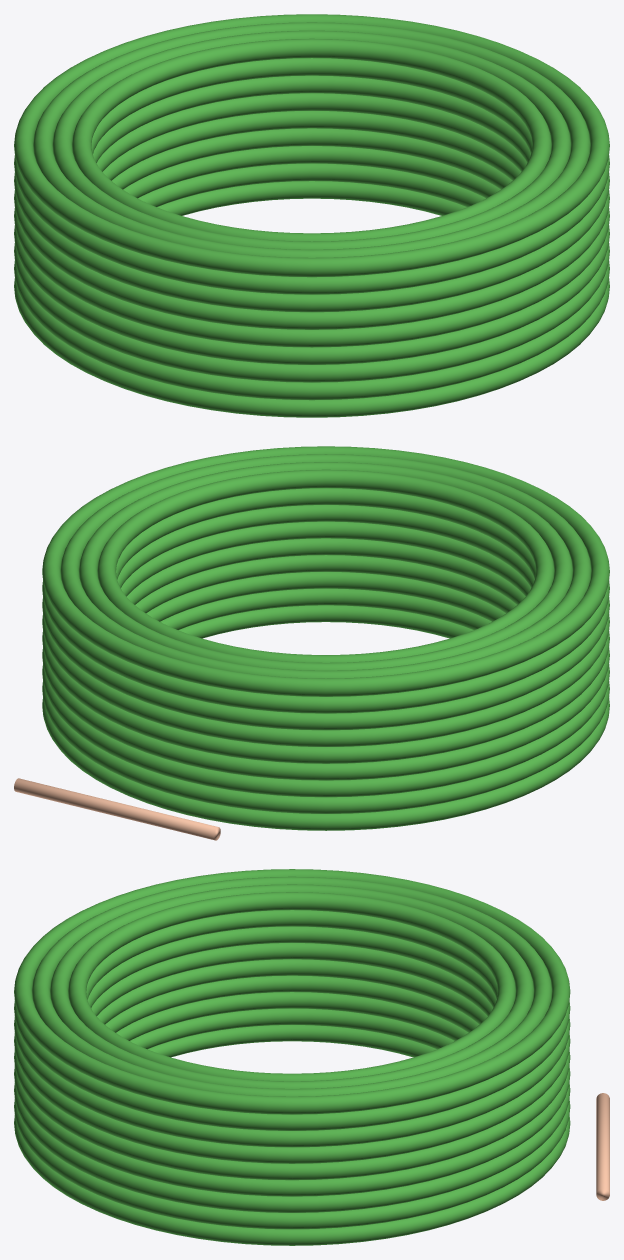
Rendered from coil_earth.glb.
The picture shows the model from 3 angles, top to bottom: view 1: azimuth 30°, elevation 25°; view 2: azimuth 150°, elevation 25°; view 3: azimuth 270°, elevation 25°; orthographic projection. The views are drawn at different scales.
Parts seen in each view (by area): view 1: coil; view 2: coil; view 3: coil.
Boxes of the visible parts, box(x1,y1,x2,y2) form: coil: box(14, 14, 609, 417); coil: box(14, 446, 609, 840); coil: box(14, 869, 609, 1245).
Size of the model in its own units: 0.0984 by 0.0288 by 0.1054.
